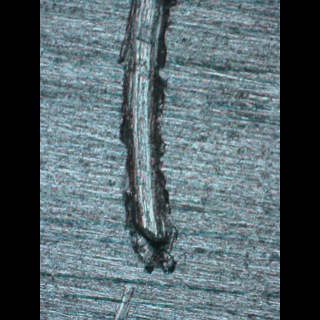d: (112, 0, 183, 283)
